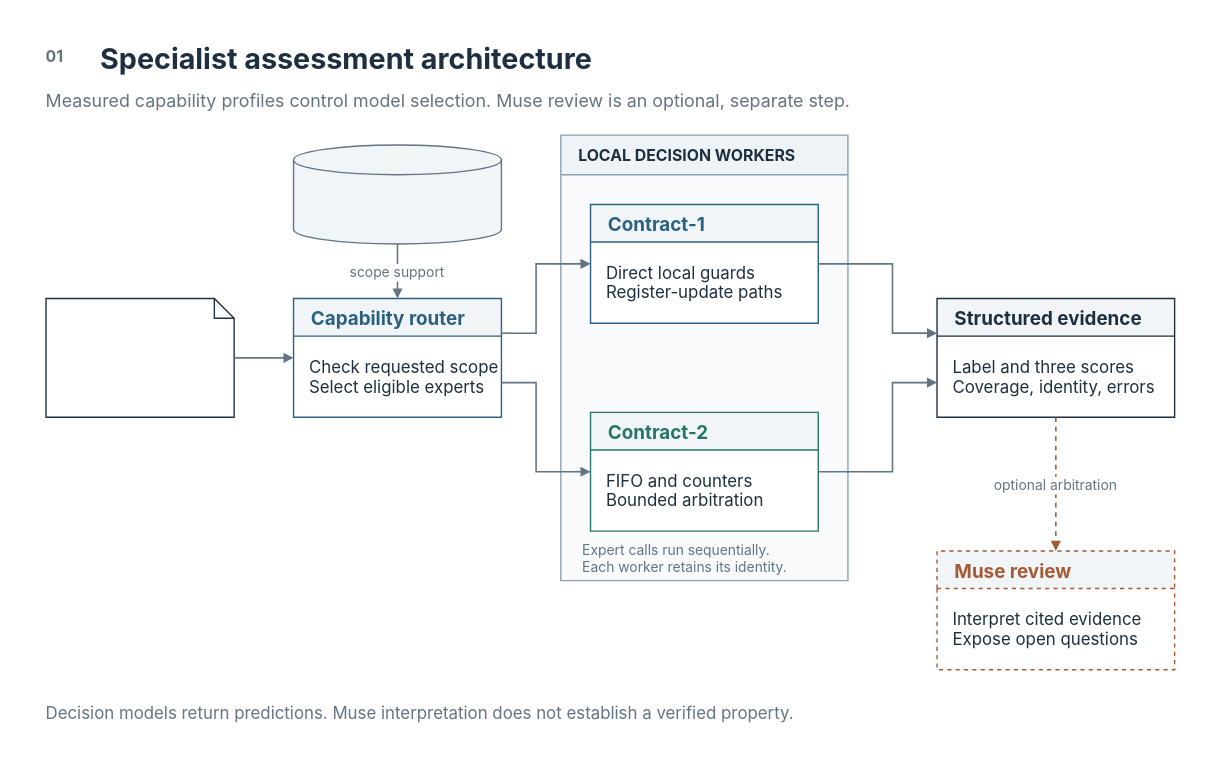
Some shapes in this 1221 by 765 pixel diagram are drawn without their labels. The centre of each missing label's shape, as x and y in pixels:
"Measured capability profiles" goes at [397,194].
"RTL region Requirement Assumptions" goes at [139,357].
